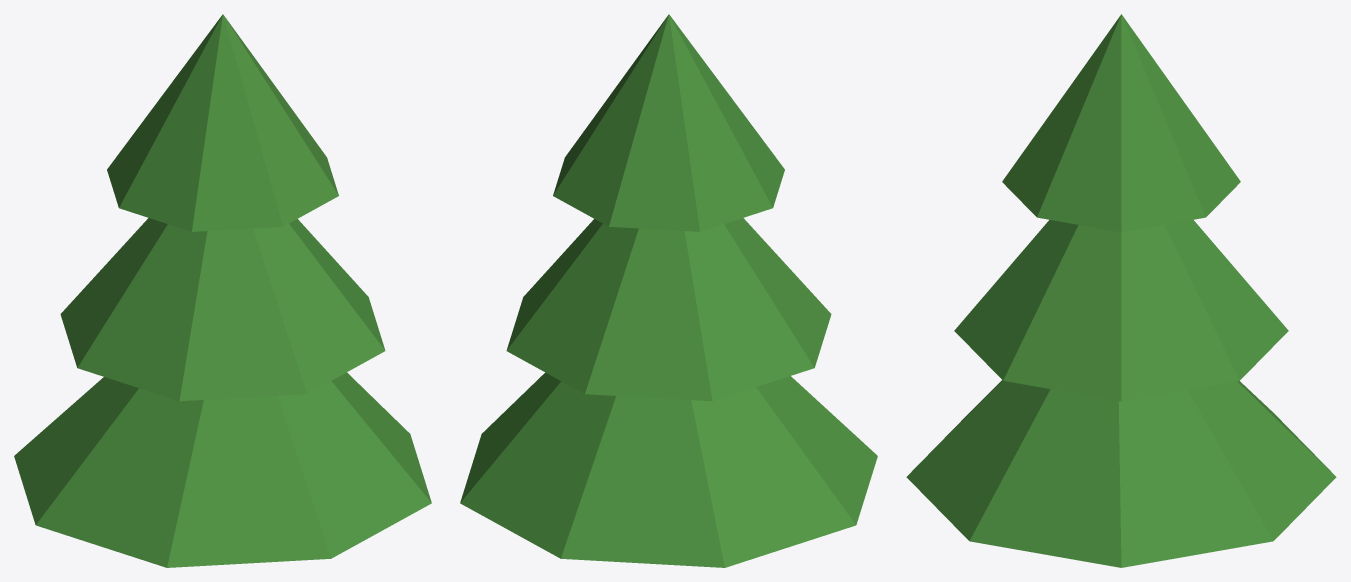
The model's file is SM_Dressing_PineTree.fbx.
3 views of the same model, side by side, from view 1: azimuth 30°, elevation 25°; view 2: azimuth 150°, elevation 25°; view 3: azimuth 270°, elevation 25° (orthographic).
Parts seen in each view (by area): view 1: SM_Dressing_PineTree; view 2: SM_Dressing_PineTree; view 3: SM_Dressing_PineTree.
Boxes of the visible parts, box(x1,y1,x2,y2) form: SM_Dressing_PineTree: box(14, 14, 431, 567); SM_Dressing_PineTree: box(460, 14, 877, 567); SM_Dressing_PineTree: box(906, 14, 1336, 567).
Bounding box in the file's own units: 1.44 × 1.96 × 1.44.
